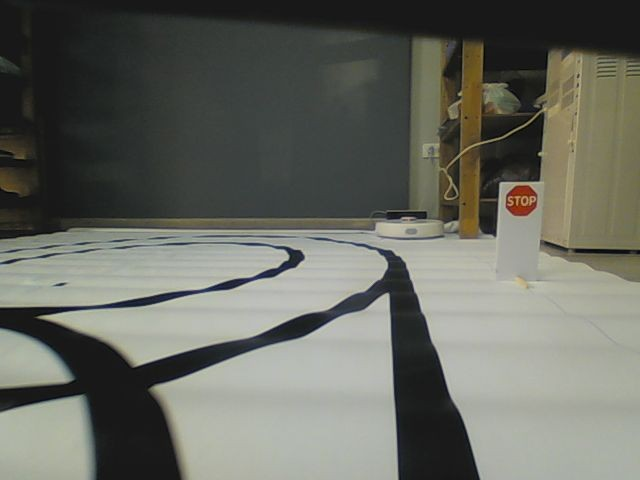Stop: (504, 183, 540, 219)
